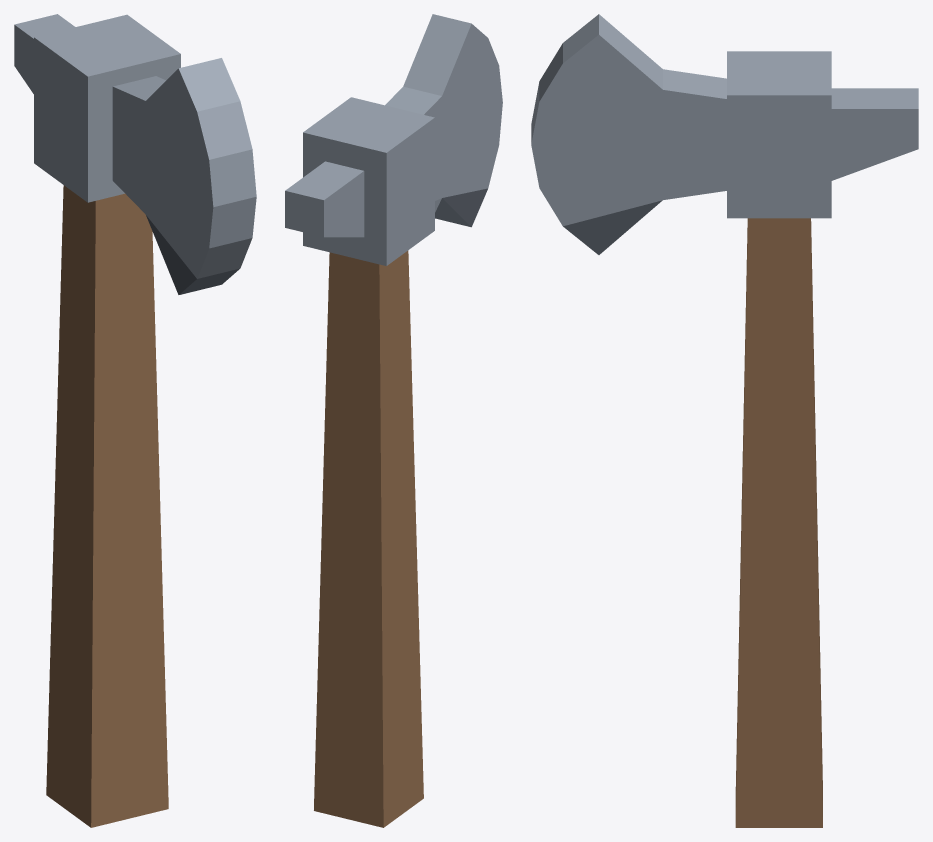
File: axe.dae
3 renders of one model, left to right at view 1: azimuth 30°, elevation 25°; view 2: azimuth 150°, elevation 25°; view 3: azimuth 270°, elevation 25°, orthographic. The views are drawn at different scales.
Visible parts, largest first — view 1: axe; view 2: axe; view 3: axe.
Part boxes in pixels (x1,y1,x2,y2): axe: [14, 14, 256, 827]; axe: [285, 14, 502, 827]; axe: [531, 14, 918, 827].
Bounding box in the file's own units: 0.0725 × 0.2683 × 0.6.
